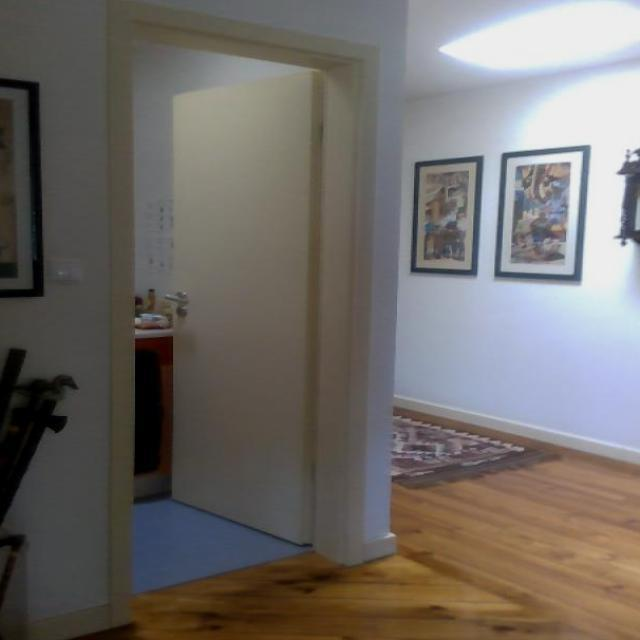door: (168, 69, 319, 546)
